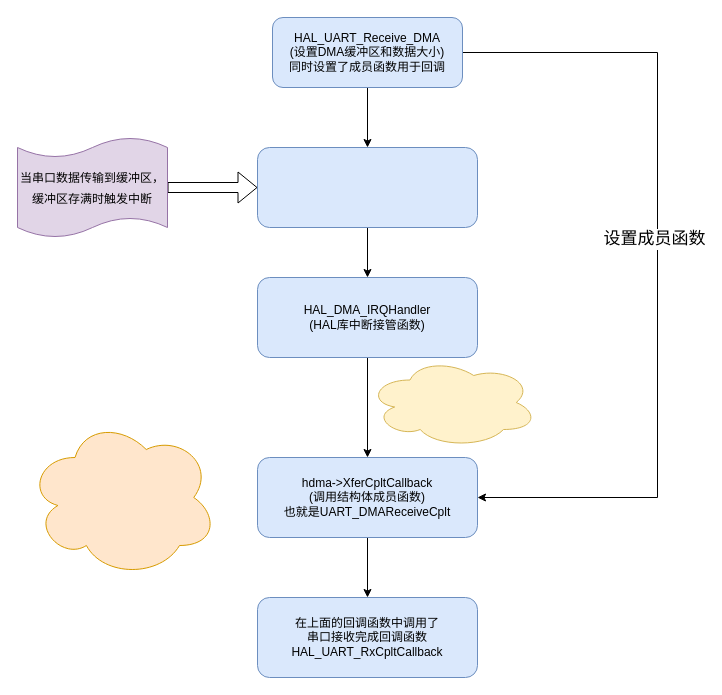
The diagram is 722 pixels wide and 695 high, and some of its shapes have lost their labels. Here are the shapes that lost their labels. From the top down, the centre of each, then its label:
At (x=367, y=187): "DMA1_Channel1_IRQHandler (系统中断函数)".
At (x=452, y=402): "其中还有一个 接收一半回调函数， 原理一样".
At (x=122, y=497): "将数据存入缓冲区时 数据计数--和 数据指针++的操作 由DMA硬件完成".
